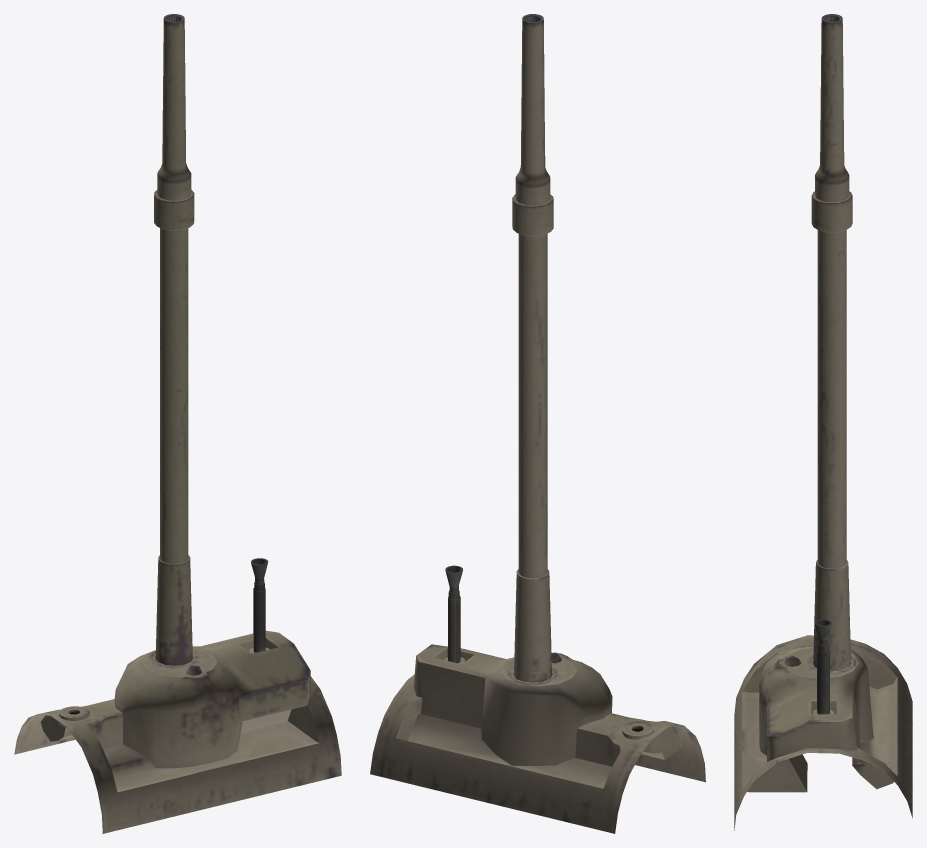
Rendered from Gun_03.glb.
3 views of the same model, side by side, from view 1: azimuth 30°, elevation 25°; view 2: azimuth 150°, elevation 25°; view 3: azimuth 270°, elevation 25° (orthographic). The views are drawn at different scales.
Visible parts, largest first — view 1: set_0_group_0; view 2: set_0_group_0; view 3: set_0_group_0.
Part boxes in pixels (x1,y1,x2,y2): set_0_group_0: [14, 14, 341, 833]; set_0_group_0: [370, 14, 705, 833]; set_0_group_0: [734, 14, 912, 830].
Size of the model in its own units: 0.784 by 2.35 by 0.5032.
Materials: 1 (1 with a texture image).
